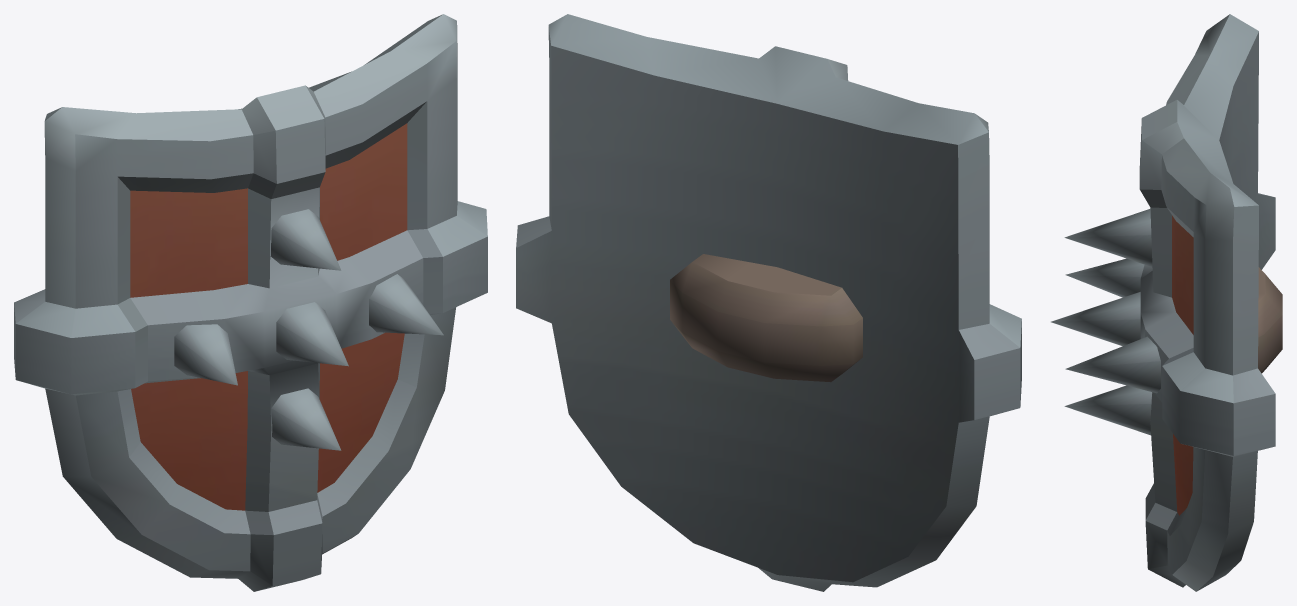
The model's file is shield_spikes.glb.
The picture shows the model from 3 angles, left to right: view 1: azimuth 30°, elevation 25°; view 2: azimuth 150°, elevation 25°; view 3: azimuth 270°, elevation 25°; orthographic projection. The views are drawn at different scales.
Parts seen in each view (by area): view 1: shield_spikes; view 2: shield_spikes; view 3: shield_spikes.
Boxes of the visible parts, box(x1,y1,x2,y2) form: shield_spikes: box(14, 14, 487, 591); shield_spikes: box(516, 14, 1021, 591); shield_spikes: box(1051, 14, 1282, 591).
Size of the model in its own units: 1.01 by 1.04 by 0.4598.
Materials: 1 (1 with a texture image).
